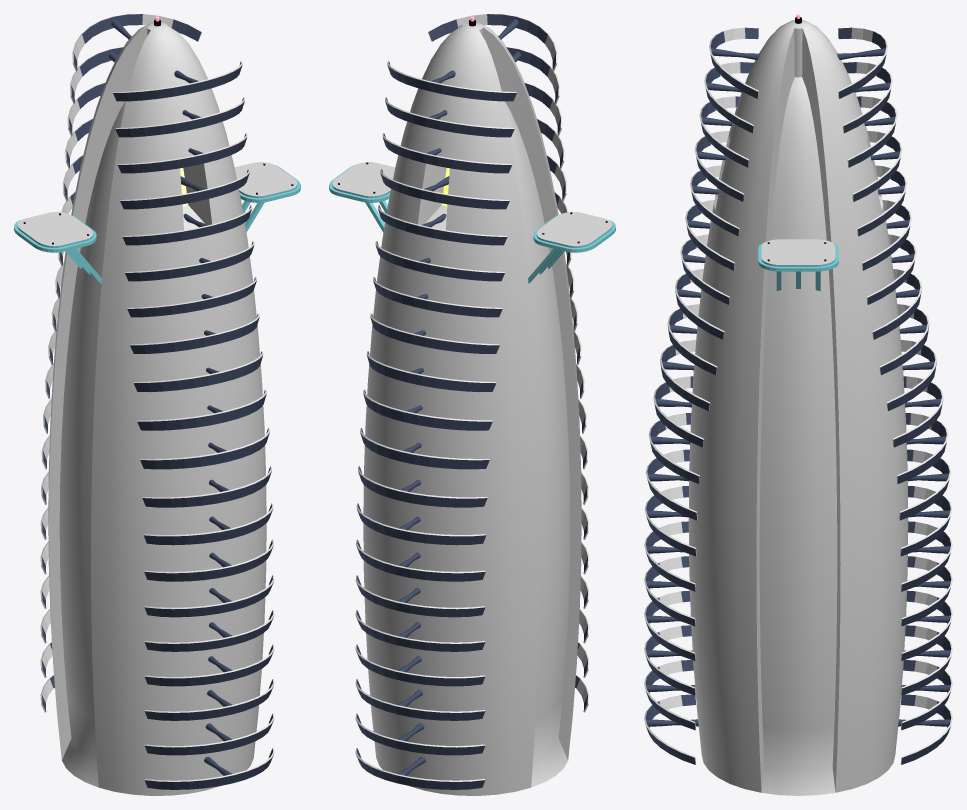
3 views of the same model, side by side, from view 1: azimuth 30°, elevation 25°; view 2: azimuth 150°, elevation 25°; view 3: azimuth 270°, elevation 25° (orthographic).
Parts seen in each view (by area): view 1: cb4_mesh; view 2: cb4_mesh; view 3: cb4_mesh.
Boxes of the visible parts, x1,y1,x2,y2 form: cb4_mesh: [14, 14, 300, 795]; cb4_mesh: [329, 14, 615, 795]; cb4_mesh: [644, 14, 952, 795].
Size of the model in its own units: 16610 by 44525 by 16833.
